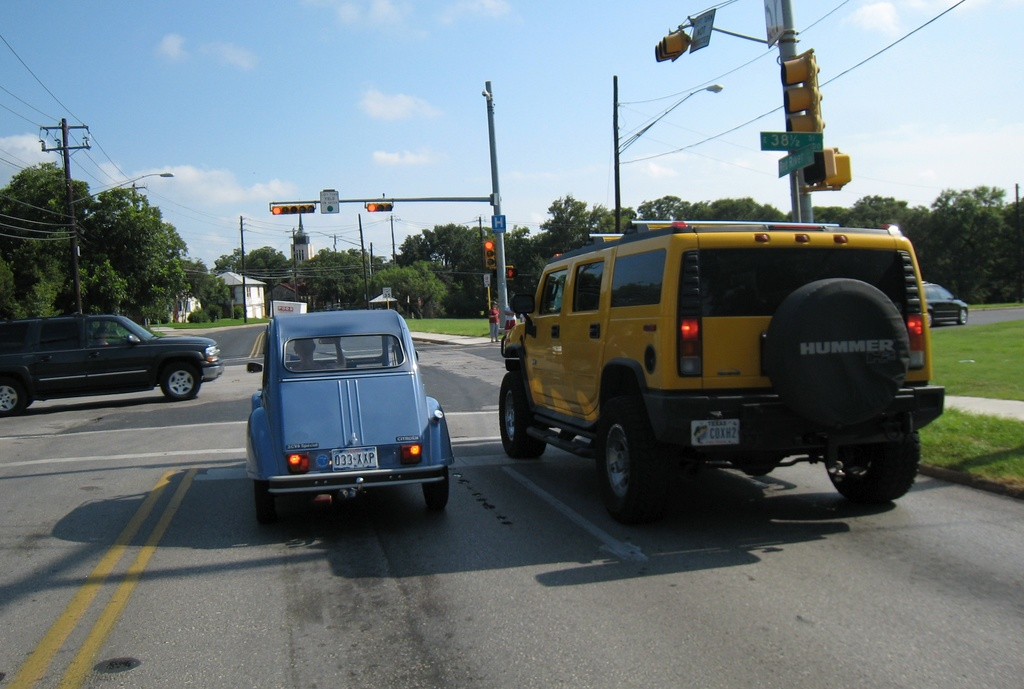Car: (240, 311, 457, 525), (0, 306, 218, 415), (917, 279, 968, 322)
